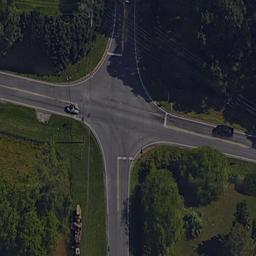Car: (210, 123, 236, 137), (62, 103, 80, 116)
Double Solid Yellow Line: (1, 84, 64, 102), (114, 162, 120, 256), (170, 123, 207, 138), (121, 5, 125, 51)
Stop Line: (116, 153, 134, 161), (161, 113, 168, 126), (105, 52, 123, 56)
